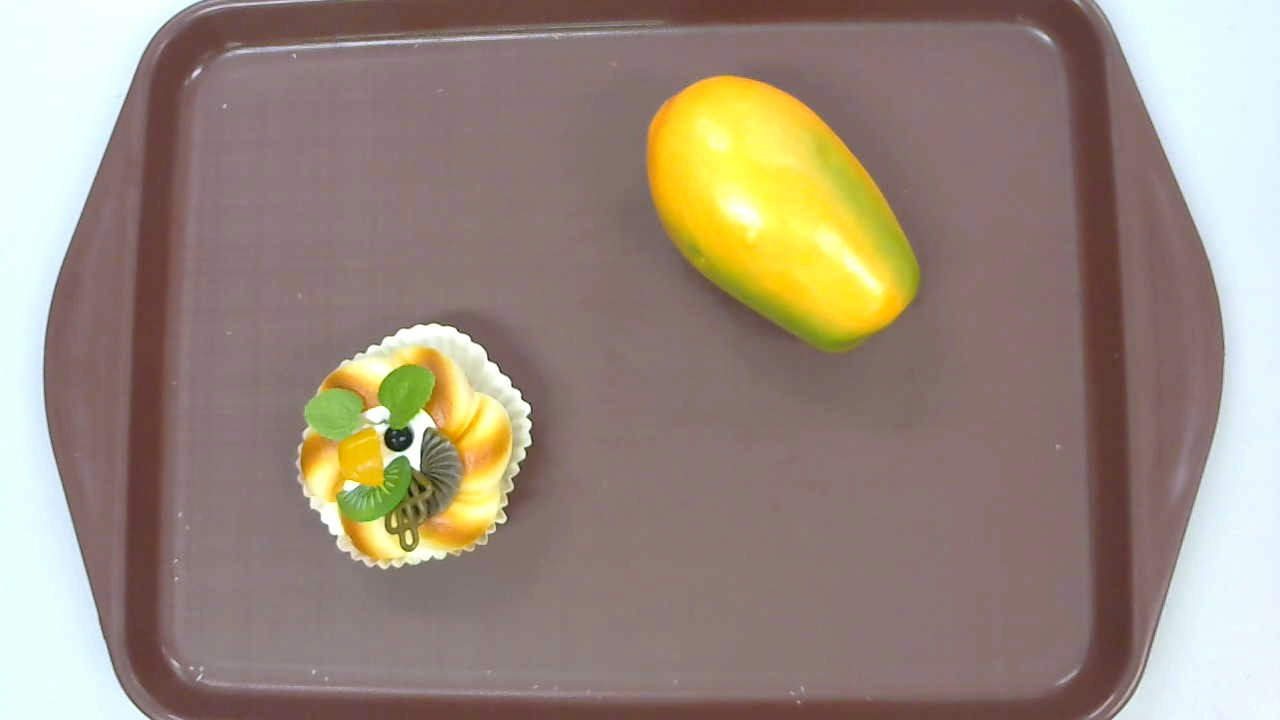fruit tart: (294, 323, 535, 571)
papya: (645, 75, 921, 352)
